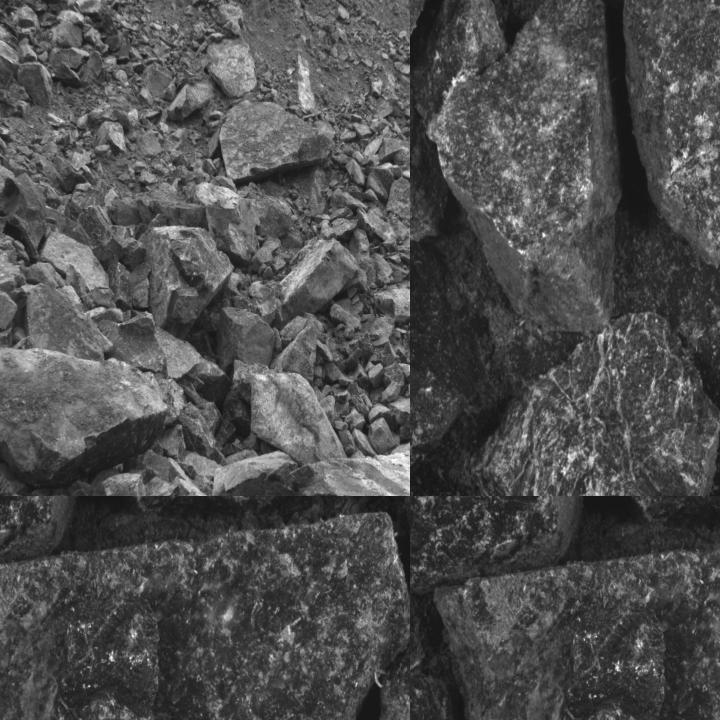stone: (0, 514, 409, 719), (427, 0, 623, 331), (435, 524, 719, 719), (453, 312, 719, 495), (623, 0, 719, 269), (0, 350, 166, 482), (410, 257, 487, 485), (410, 496, 587, 594), (410, 0, 511, 128), (141, 226, 235, 341), (220, 100, 339, 181), (249, 374, 346, 467), (272, 238, 358, 329), (0, 496, 81, 584), (23, 283, 110, 363), (40, 232, 115, 309), (163, 331, 235, 400), (69, 207, 128, 278), (0, 170, 50, 253), (96, 317, 165, 371), (216, 308, 275, 370), (214, 454, 301, 495), (177, 404, 231, 465), (206, 37, 256, 96), (276, 326, 318, 386), (228, 193, 262, 262), (17, 64, 56, 110), (66, 183, 107, 221), (374, 281, 409, 320), (386, 178, 409, 229), (112, 261, 134, 314), (101, 473, 147, 495), (249, 238, 277, 270), (0, 286, 19, 332), (0, 38, 16, 90), (143, 477, 181, 495), (388, 398, 409, 429), (332, 217, 358, 241), (381, 362, 405, 387), (345, 159, 365, 185), (368, 173, 386, 200), (380, 382, 401, 403), (368, 363, 384, 388), (320, 221, 337, 242)
